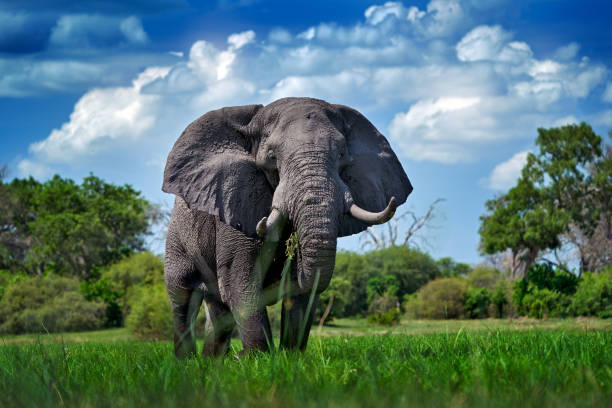africanelephant: (231, 110, 398, 253)
